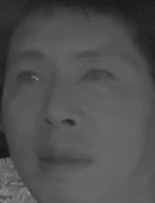eye: (80, 65, 115, 86), (14, 67, 47, 88)
mouth: (35, 140, 91, 173)
